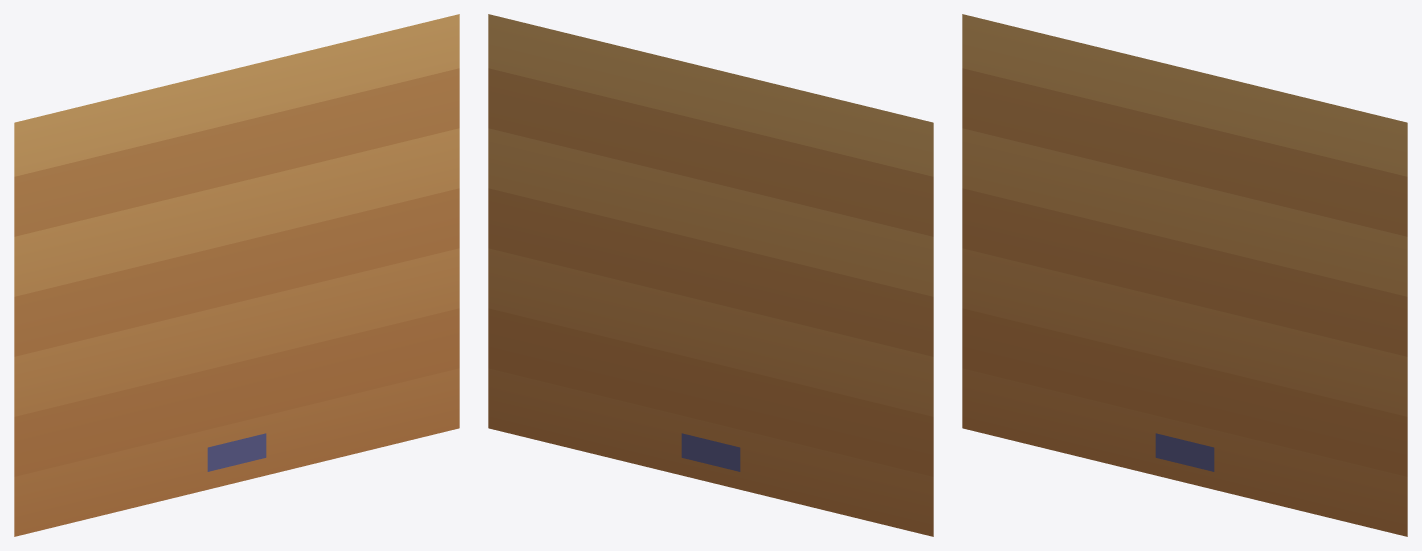
File: door_wide_closed.glb
3 views of the same model, side by side, from view 1: azimuth 30°, elevation 25°; view 2: azimuth 150°, elevation 25°; view 3: azimuth 330°, elevation 25° (orthographic).
Visible parts, largest first — view 1: door-wide-closed; view 2: door-wide-closed; view 3: door-wide-closed.
Part boxes in pixels (<box>): door-wide-closed: <box>14,14,459,536</box>; door-wide-closed: <box>488,14,933,536</box>; door-wide-closed: <box>962,14,1407,536</box>.
Size of the model in its own units: 1.8 by 1.6 by 0.
Materials: 1 (1 with a texture image).
